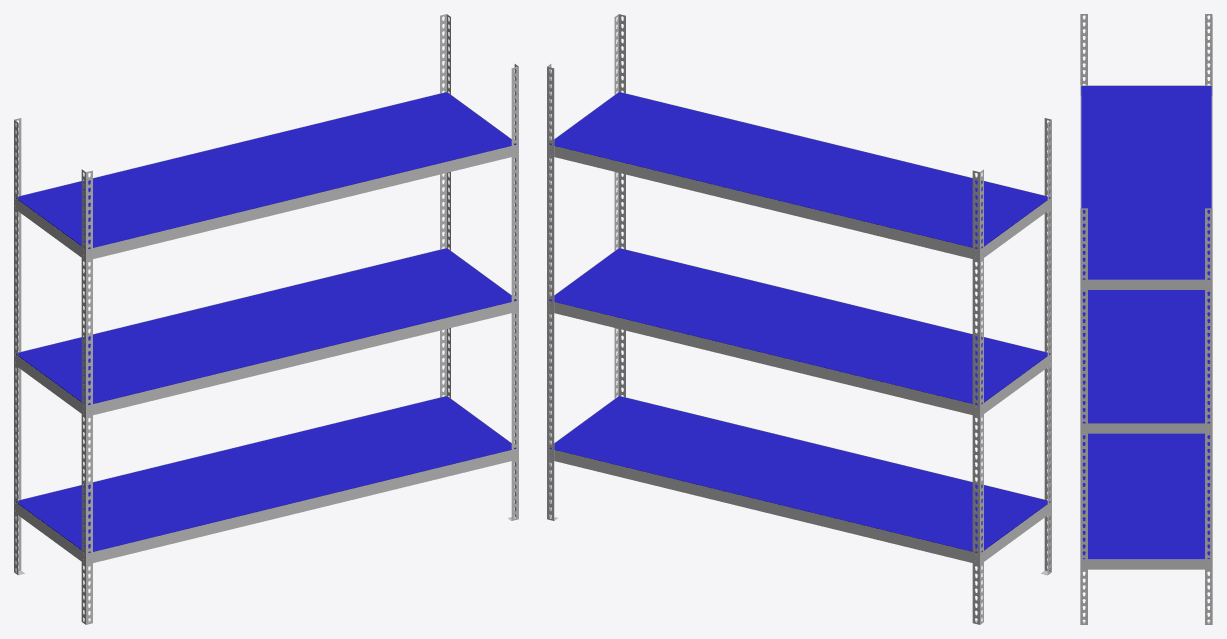
The model's file is Scaffale.fbx.
3 views of the same model, side by side, from view 1: azimuth 30°, elevation 25°; view 2: azimuth 150°, elevation 25°; view 3: azimuth 270°, elevation 25° (orthographic). The views are drawn at different scales.
Parts seen in each view (by area): view 1: Cube.003, Cube.002, Cube.006, Cube.005, Cube.004, Cube.001, Plane.003, Plane.002, Plane.004, Plane.001; view 2: Cube.003, Cube.002, Cube.006, Cube.004, Cube.005, Cube.001, Plane.004, Plane.001, Plane.003, Plane.002; view 3: Cube.002, Cube.003, Cube.006, Plane.001, Plane.002, Cube.004, Cube.001, Cube.005, Plane.004, Plane.003.
Part boxes in pixels (left/top/right/bottom): Cube.003: left=15, top=248, right=516, bottom=405; Cube.002: left=15, top=92, right=516, bottom=248; Cube.006: left=15, top=396, right=516, bottom=552; Cube.005: left=15, top=396, right=516, bottom=563; Cube.004: left=15, top=92, right=516, bottom=258; Cube.001: left=15, top=248, right=516, bottom=415; Plane.003: left=81, top=169, right=92, bottom=624; Plane.002: left=508, top=64, right=518, bottom=520; Plane.004: left=14, top=118, right=24, bottom=575; Plane.001: left=440, top=14, right=450, bottom=398; Cube.003: left=549, top=248, right=1050, bottom=405; Cube.002: left=549, top=92, right=1050, bottom=248; Cube.006: left=549, top=396, right=1050, bottom=552; Cube.004: left=549, top=92, right=1050, bottom=258; Cube.005: left=549, top=396, right=1050, bottom=563; Cube.001: left=549, top=248, right=1050, bottom=414; Plane.004: left=972, top=169, right=983, bottom=624; Plane.001: left=547, top=64, right=557, bottom=520; Plane.003: left=1041, top=118, right=1051, bottom=575; Plane.002: left=614, top=14, right=625, bottom=398; Cube.002: left=1081, top=86, right=1211, bottom=279; Cube.003: left=1082, top=290, right=1210, bottom=423; Cube.006: left=1082, top=433, right=1210, bottom=559; Plane.001: left=1205, top=208, right=1212, bottom=624; Plane.002: left=1080, top=205, right=1087, bottom=624; Cube.004: left=1080, top=85, right=1212, bottom=289; Cube.001: left=1082, top=423, right=1210, bottom=433; Cube.005: left=1082, top=559, right=1210, bottom=569; Plane.004: left=1205, top=14, right=1212, bottom=207; Plane.003: left=1080, top=14, right=1087, bottom=85.
Size of the model in its own units: 207 by 207 by 59.51.
